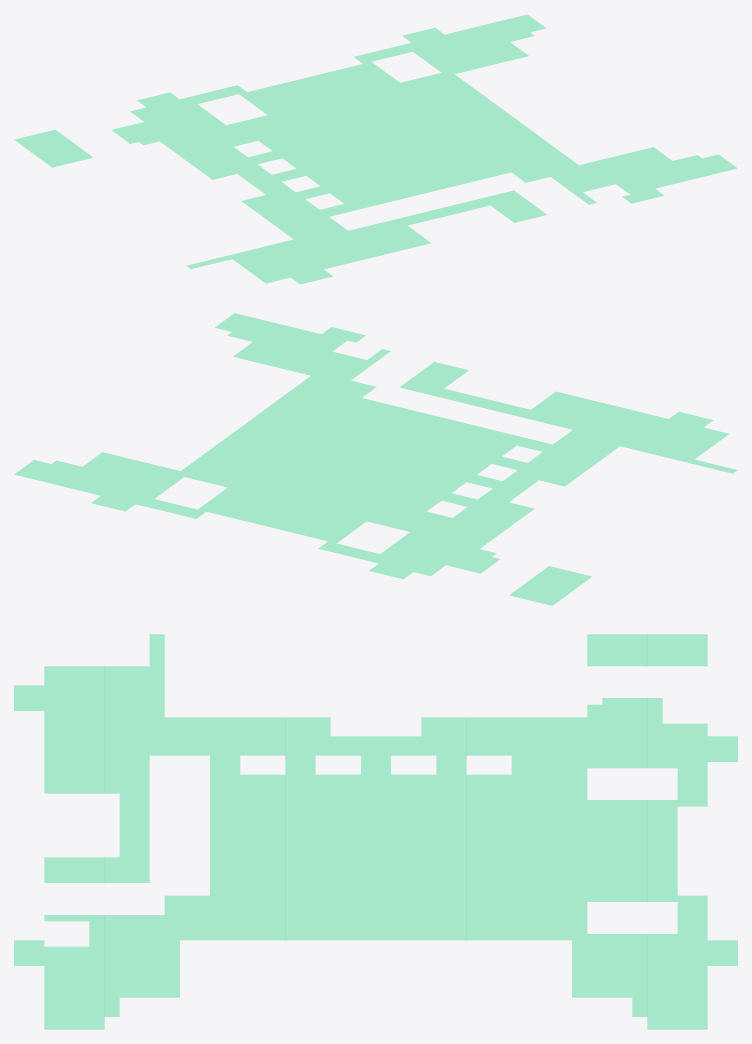
Rendered from navmesh.glb.
The picture shows the model from 3 angles, top to bottom: view 1: azimuth 30°, elevation 25°; view 2: azimuth 150°, elevation 25°; view 3: azimuth 270°, elevation 25°; orthographic projection. The views are drawn at different scales.
Visible parts, largest first — view 1: NAVMESH; view 2: NAVMESH; view 3: NAVMESH.
Boxes of the visible parts, x1,y1,x2,y2 form: NAVMESH: [14, 14, 737, 284]; NAVMESH: [14, 313, 737, 605]; NAVMESH: [14, 634, 737, 1029].
Size of the model in its own units: 15.5 by 0 by 12.
